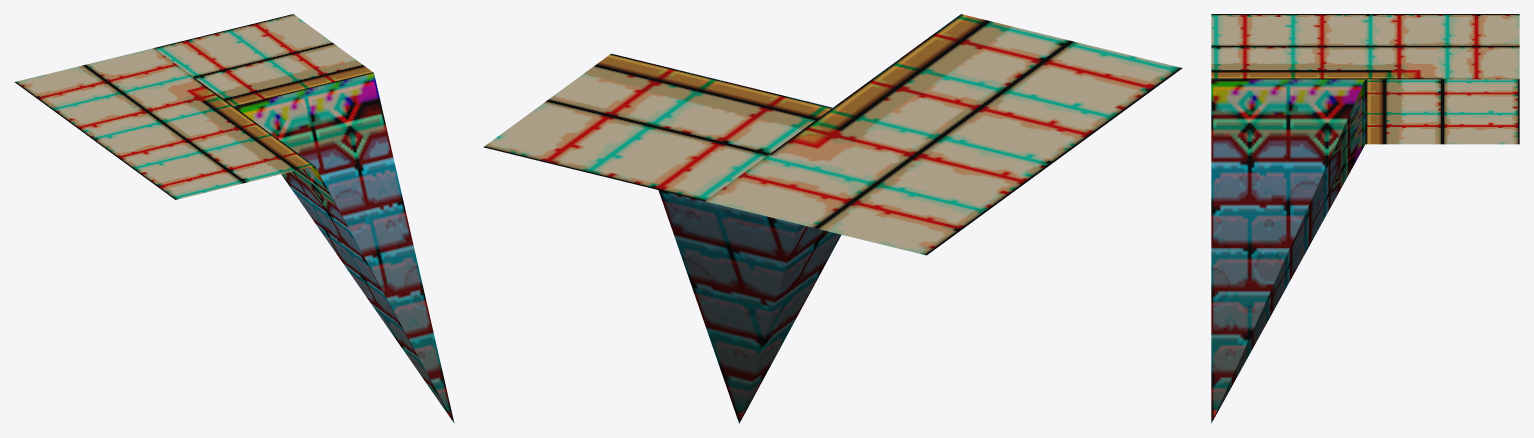
The model's file is arch_cathedral_wall_cornerIn.FBX.
3 views of the same model, side by side, from view 1: azimuth 30°, elevation 25°; view 2: azimuth 150°, elevation 25°; view 3: azimuth 270°, elevation 25° (orthographic). The views are drawn at different scales.
Parts seen in each view (by area): view 1: arch_cathedral_wall_cornerIn; view 2: arch_cathedral_wall_cornerIn; view 3: arch_cathedral_wall_cornerIn.
Part boxes in pixels (bbox=[...]): arch_cathedral_wall_cornerIn: bbox=[14, 14, 454, 423]; arch_cathedral_wall_cornerIn: bbox=[483, 14, 1182, 423]; arch_cathedral_wall_cornerIn: bbox=[1211, 14, 1519, 423].
Bounding box in the file's own units: 4 × 4 × 4.
Materials: 1 (1 with a texture image).
